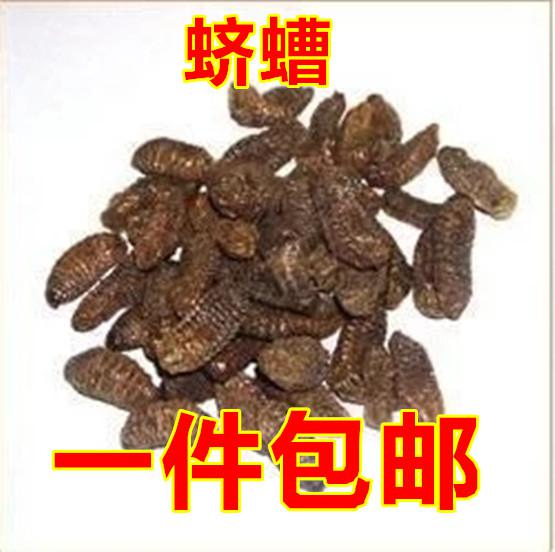grub: (59, 337, 166, 415)
